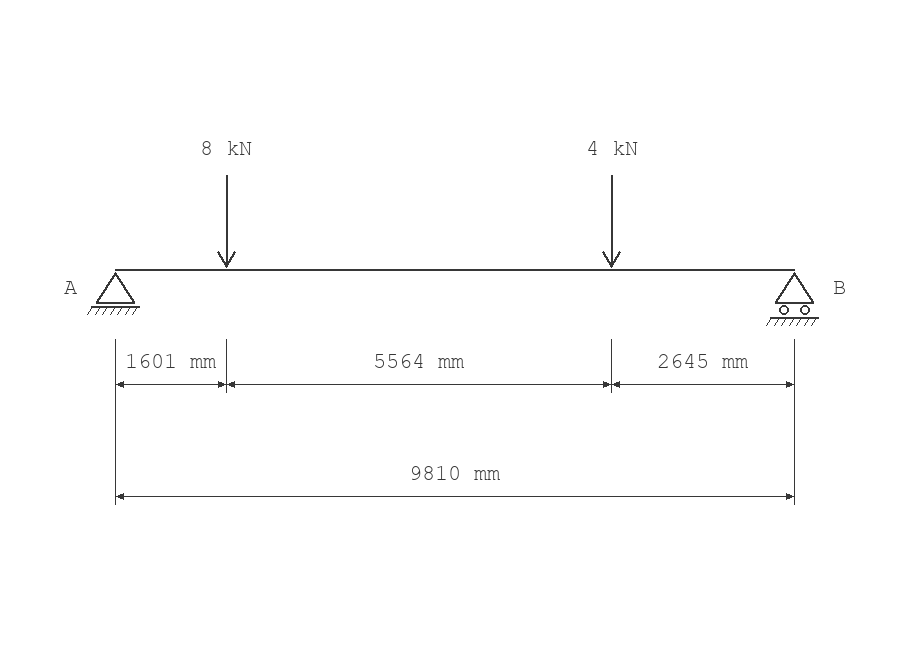pin_support: (87, 272, 140, 315)
point_load: (217, 175, 236, 268), (602, 175, 621, 268)
roller_support: (766, 272, 819, 326)
